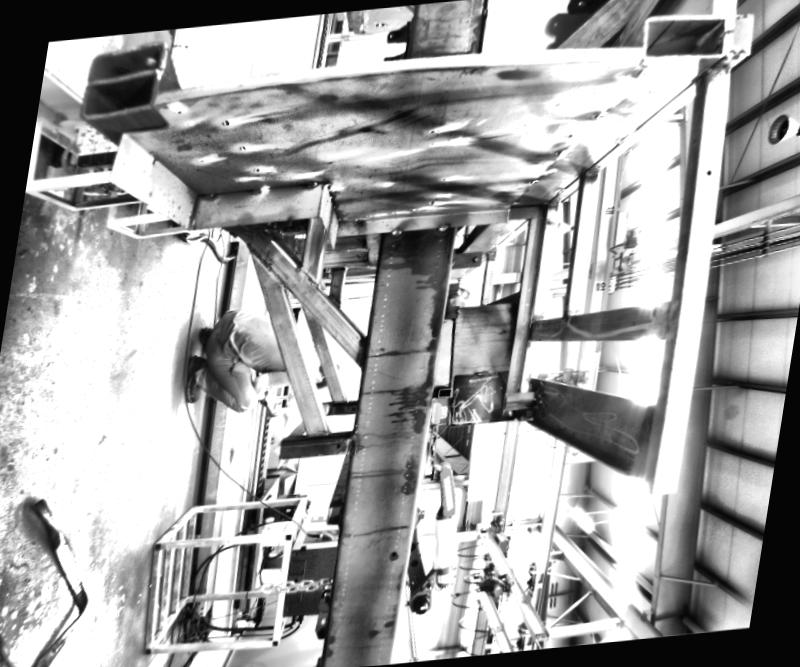hole: (704, 166, 714, 174), (630, 318, 637, 326), (391, 549, 398, 555), (335, 442, 342, 447)
welding: (389, 223, 404, 236), (435, 219, 451, 231), (302, 178, 321, 188), (250, 183, 269, 192), (202, 189, 219, 198)
